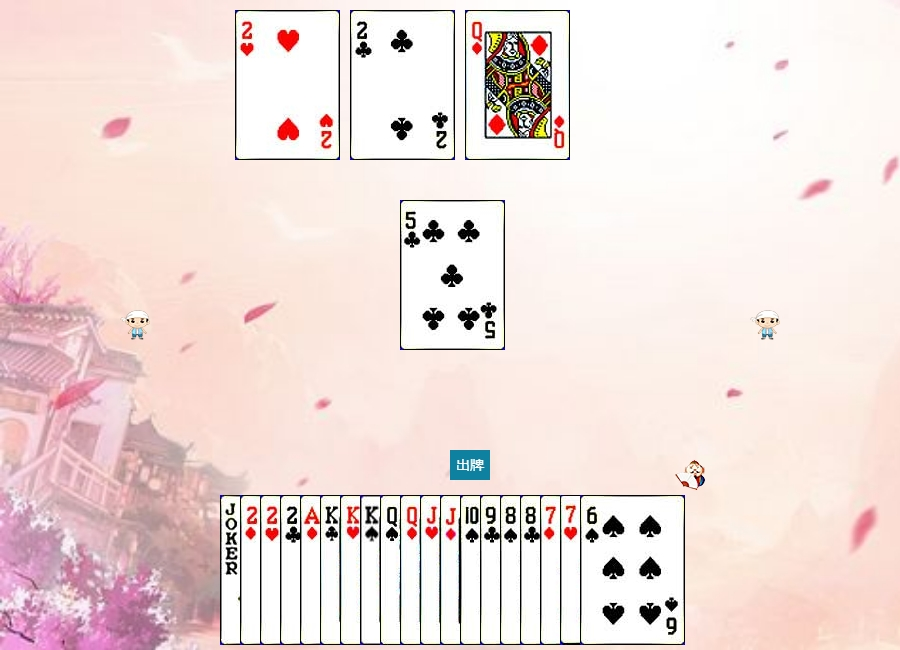10~4: (460, 495, 565, 645)
11~1: (440, 495, 545, 645)
11~3: (420, 495, 525, 645)
12~1: (465, 10, 570, 160), (400, 495, 505, 645)
12~4: (380, 495, 485, 645)
13~2: (320, 495, 425, 645)
13~3: (340, 495, 445, 645)
13~4: (360, 495, 465, 645)
14~1: (300, 495, 405, 645)
15~1: (240, 495, 345, 645)
15~2: (350, 10, 455, 160), (280, 495, 385, 645)
15~3: (235, 10, 340, 160), (260, 495, 365, 645)
17~3: (220, 495, 325, 645)
5~2: (400, 200, 505, 350)
6~4: (580, 495, 685, 645)
7~1: (540, 495, 645, 645)
7~3: (560, 495, 665, 645)
8~2: (520, 495, 625, 645)
8~4: (500, 495, 605, 645)
9~2: (480, 495, 585, 645)
